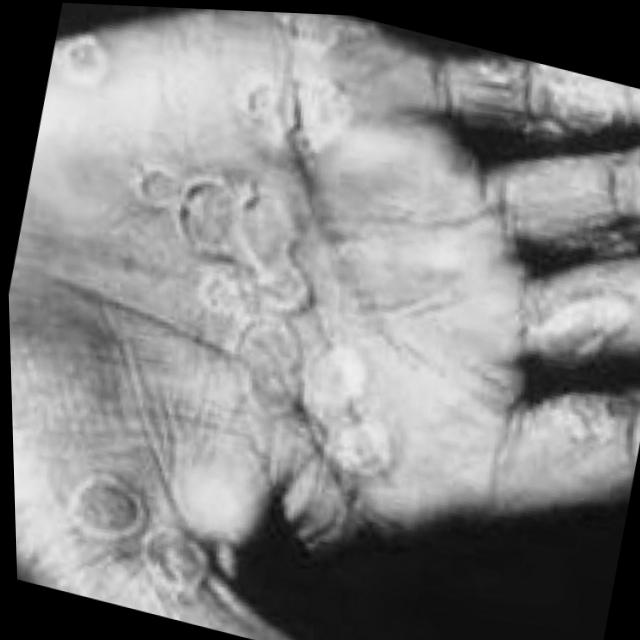Eczema: (102, 137, 443, 493), (435, 56, 640, 443), (238, 11, 381, 123), (88, 473, 213, 587)
